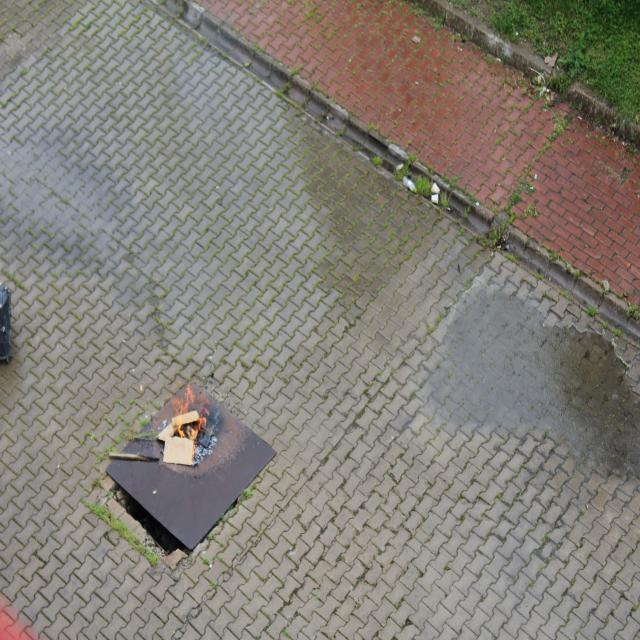fire: (162, 374, 204, 452)
